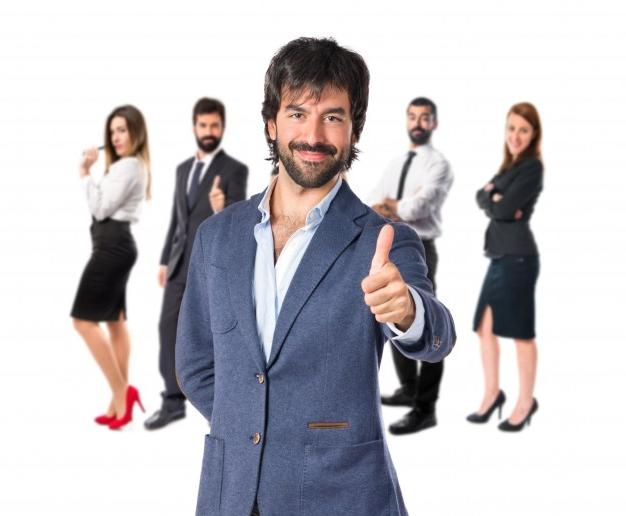thumbsup: (361, 222, 410, 324)
